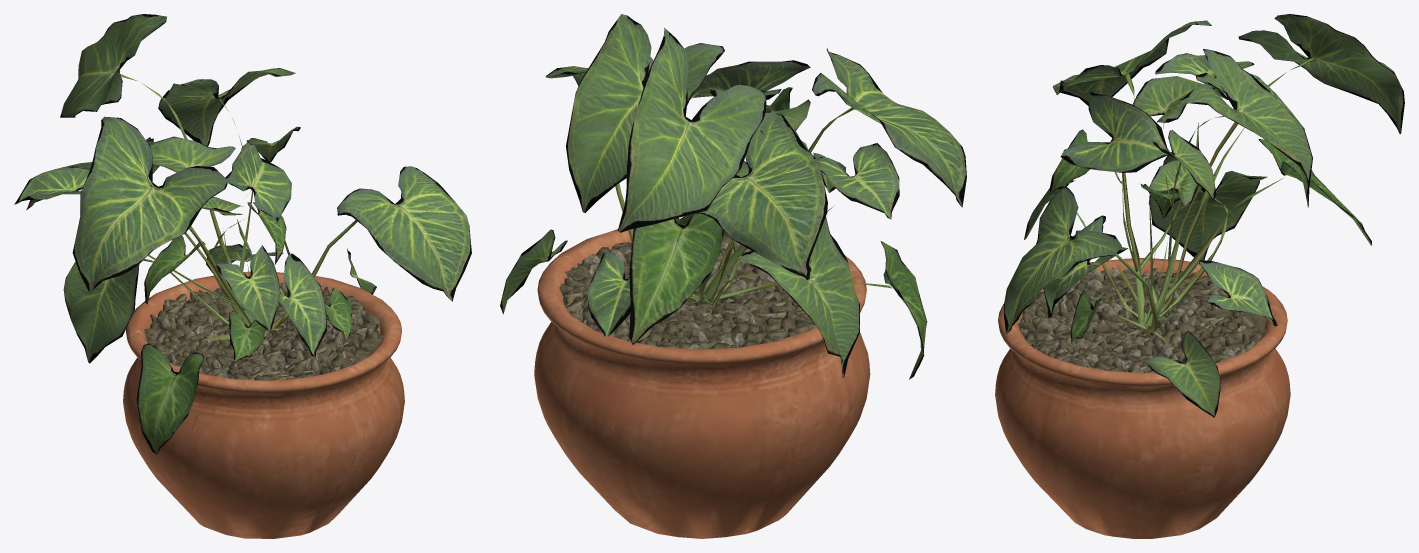
Rendered from potted_plant_02.glb.
3 views of the same model, side by side, from view 1: azimuth 30°, elevation 25°; view 2: azimuth 150°, elevation 25°; view 3: azimuth 270°, elevation 25° (orthographic). The views are drawn at different scales.
Parts seen in each view (by area): view 1: potted_plant_02_leaves, potted_plant_02_pot; view 2: potted_plant_02_leaves, potted_plant_02_pot; view 3: potted_plant_02_pot, potted_plant_02_leaves.
Part boxes in pixels (x1,y1,x2,y2): potted_plant_02_leaves: (14,14,471,454); potted_plant_02_pot: (123,271,404,538); potted_plant_02_leaves: (500,14,966,379); potted_plant_02_pot: (534,229,870,538); potted_plant_02_pot: (995,258,1290,538); potted_plant_02_leaves: (1004,14,1404,417).
Bounding box in the file's own units: 0.7012 × 0.84 × 0.6574.
Materials: 2 (2 with a texture image).
